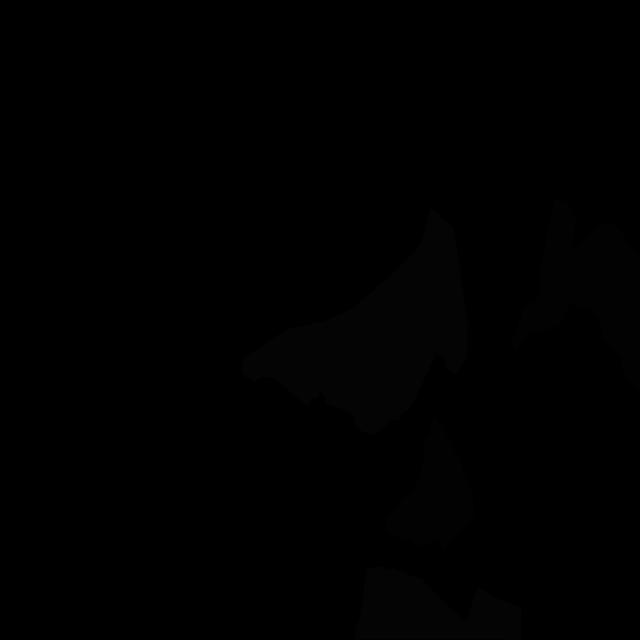cardboard: (512, 198, 640, 394), (386, 411, 474, 550)
soft_plastic: (241, 208, 468, 435), (355, 566, 521, 640)
